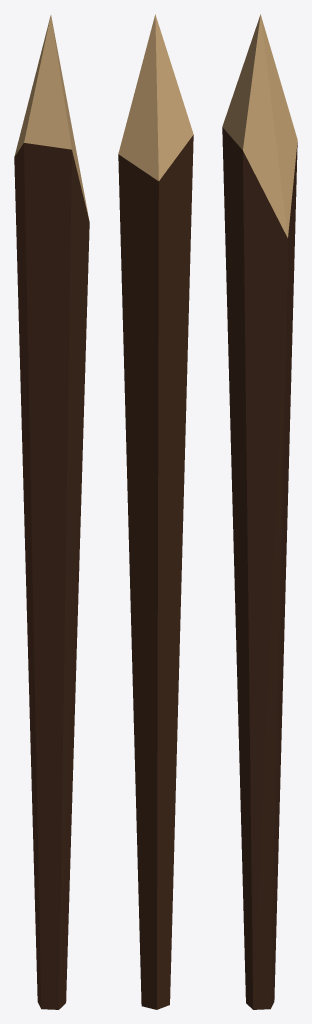
File: WoodenSpike_4.fbx
The picture shows the model from 3 angles, left to right: view 1: azimuth 30°, elevation 25°; view 2: azimuth 150°, elevation 25°; view 3: azimuth 330°, elevation 25°; orthographic projection.
Visible parts, largest first — view 1: WoodenSpike_4; view 2: WoodenSpike_4; view 3: WoodenSpike_4.
Part boxes in pixels (box(x1,y1,x2,y2)): WoodenSpike_4: box(14, 15, 89, 1009); WoodenSpike_4: box(118, 14, 193, 1009); WoodenSpike_4: box(222, 14, 297, 1009).
Bounding box in the file's own units: 9.4 × 135 × 8.92.
